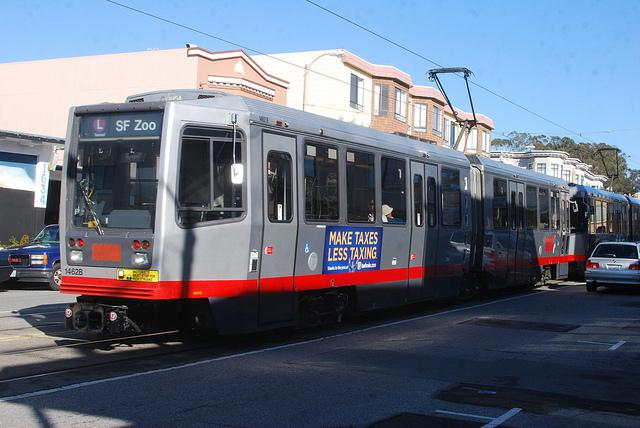Train: (52, 89, 640, 341)
